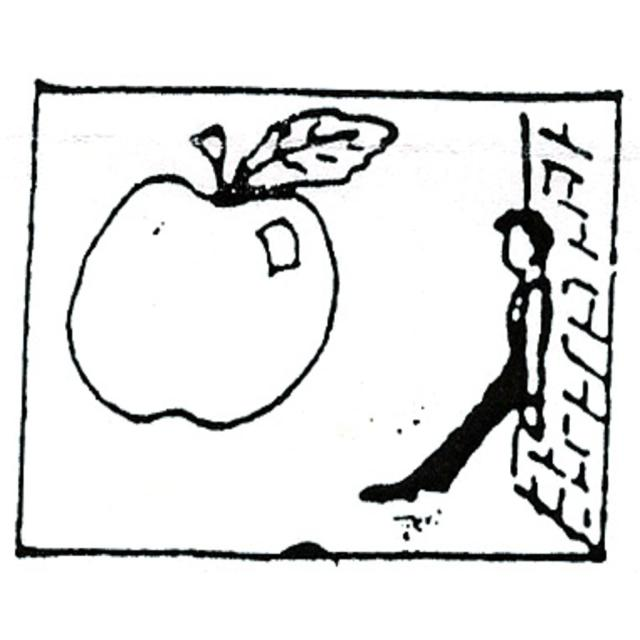Healty Apple: (57, 154, 361, 442)
